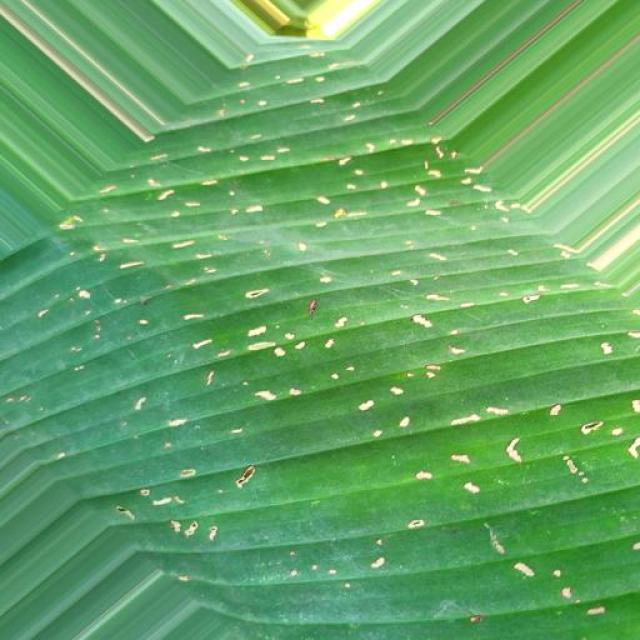Black_rot: (44, 47, 636, 640)
